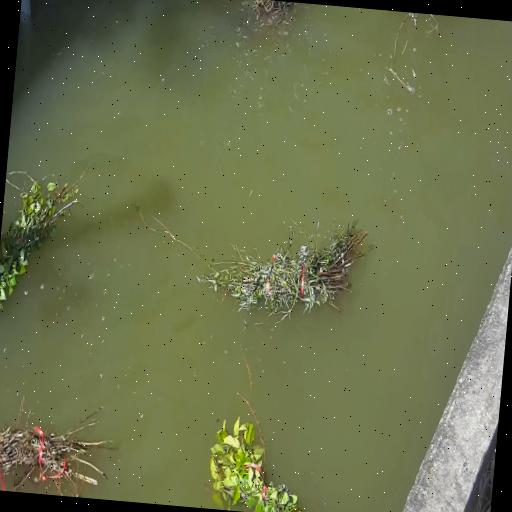twig: (197, 221, 367, 320), (0, 401, 117, 496), (0, 181, 80, 309), (237, 393, 266, 463), (241, 346, 252, 388)
